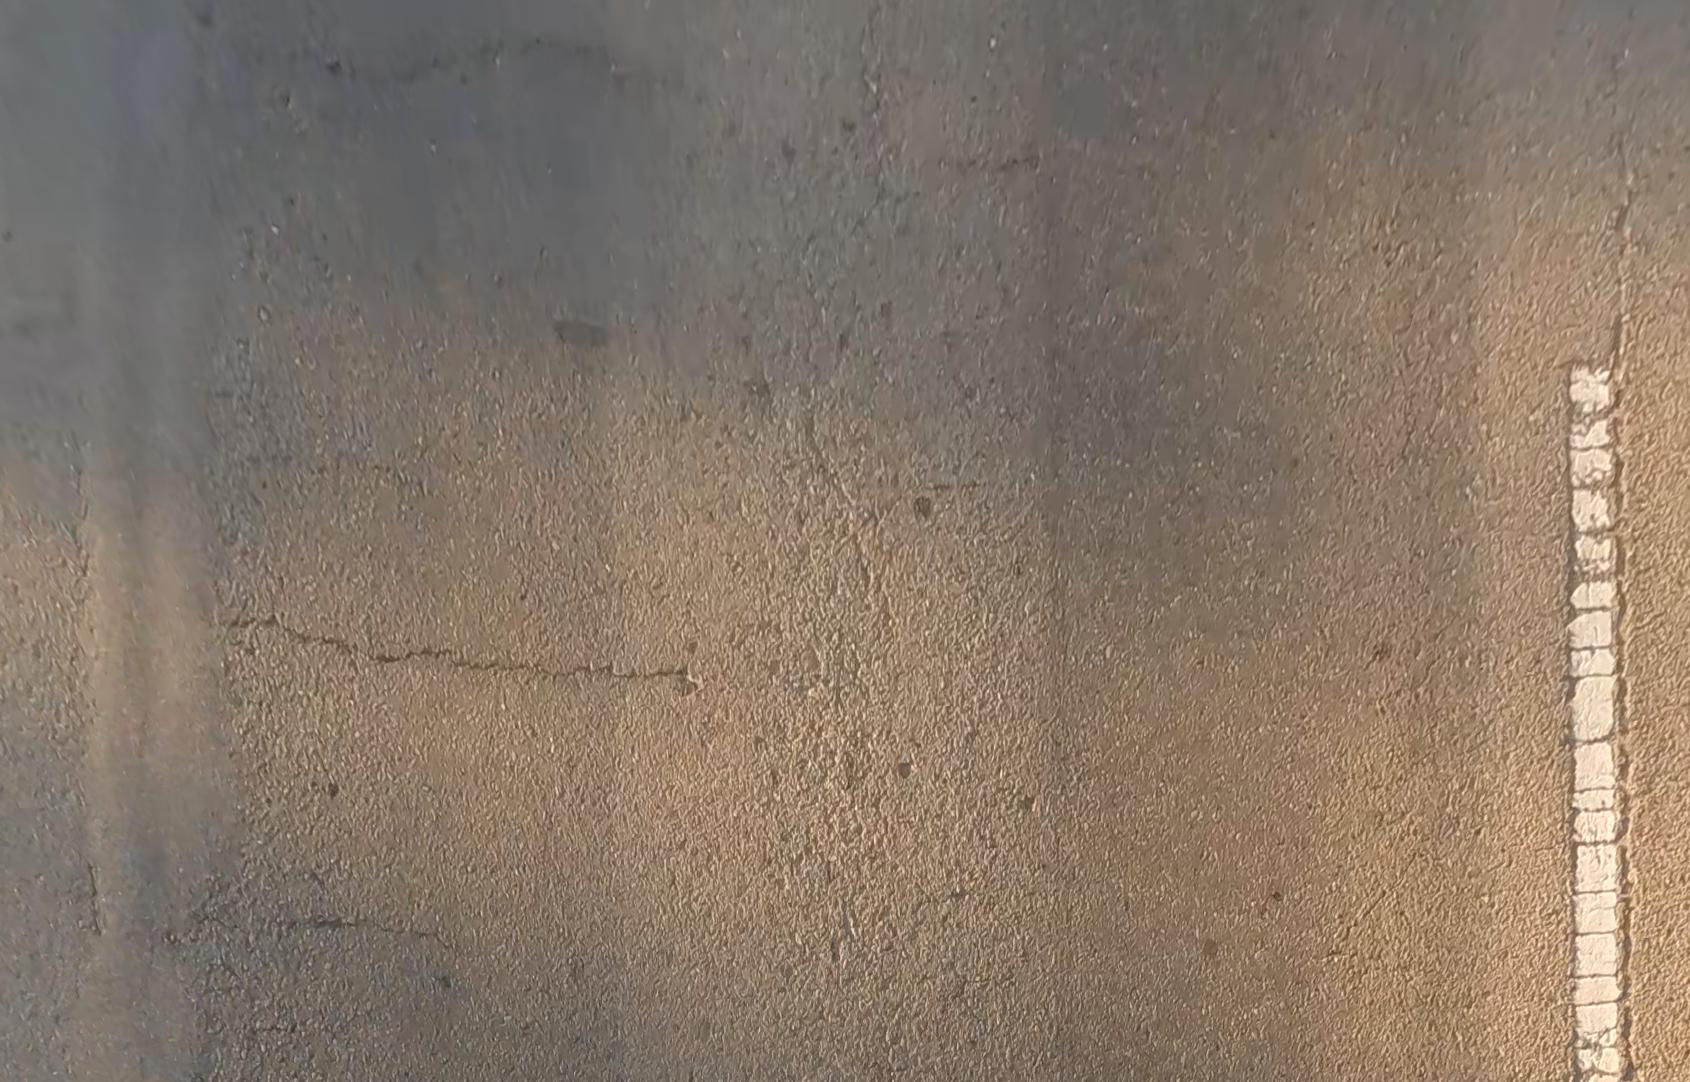pothole_patch_good: (71, 0, 256, 1082)
